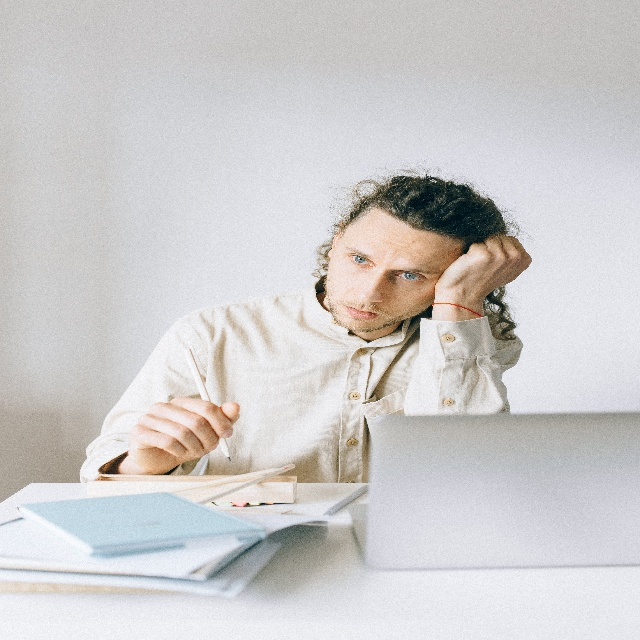Sin_guantes: (128, 394, 240, 476), (434, 231, 532, 301)
